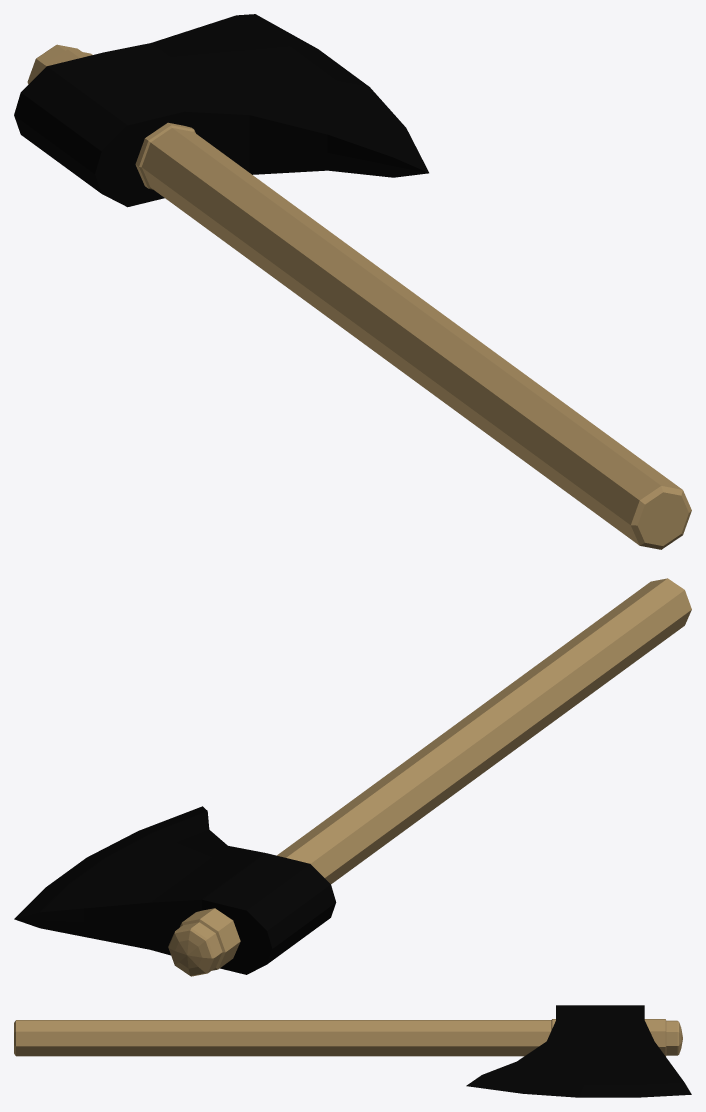
The model's file is Axe.fbx.
3 views of the same model, one above another, from view 1: azimuth 30°, elevation 25°; view 2: azimuth 150°, elevation 25°; view 3: azimuth 270°, elevation 25° (orthographic). The views are drawn at different scales.
Visible parts, largest first — view 1: Axe; view 2: Axe; view 3: Axe.
Part boxes in pixels (<box>): Axe: <box>14,14,691,549</box>; Axe: <box>14,578,691,976</box>; Axe: <box>14,1005,691,1097</box>.
Size of the model in its own units: 55.31 by 14.59 by 201.
